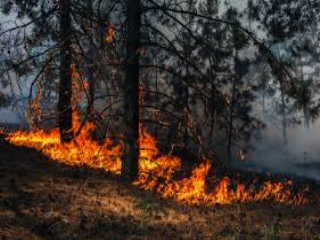fire: (130, 139, 301, 210), (6, 101, 122, 175)
smoke: (223, 80, 314, 165)
